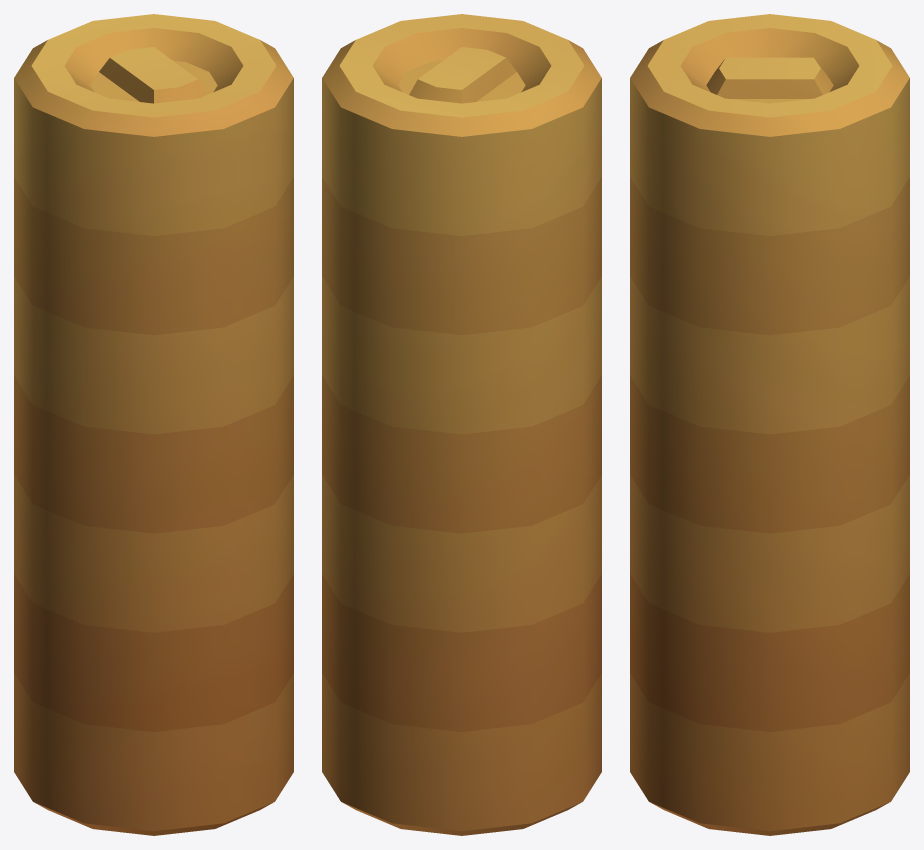
The model's file is money_coins_stack_large.glb.
3 renders of one model, left to right at view 1: azimuth 30°, elevation 25°; view 2: azimuth 150°, elevation 25°; view 3: azimuth 270°, elevation 25°, orthographic.
Visible parts, largest first — view 1: Money_Coins_Stack_Large; view 2: Money_Coins_Stack_Large; view 3: Money_Coins_Stack_Large.
Part boxes in pixels (x1=…): Money_Coins_Stack_Large: x1=14, y1=14, x2=293, y2=835; Money_Coins_Stack_Large: x1=322, y1=14, x2=601, y2=835; Money_Coins_Stack_Large: x1=630, y1=14, x2=909, y2=835.
Bounding box in the file's own units: 0.2471 × 0.7 × 0.2471.
1 material, 1 textured.
